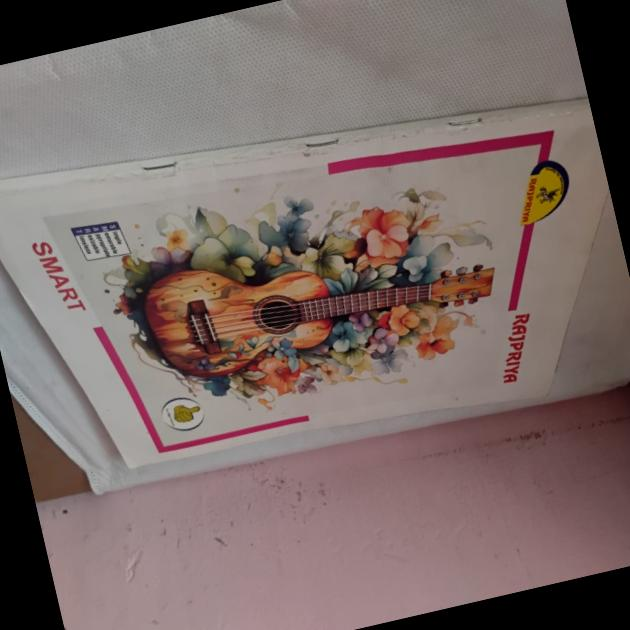notebook: (0, 41, 598, 520)
